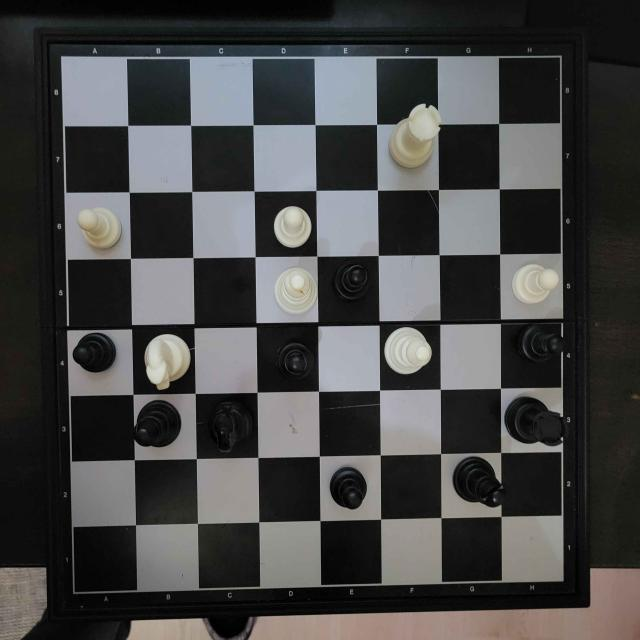black-bishop: (447, 451, 508, 515), (132, 395, 186, 460)
black-knight: (201, 398, 257, 458)
black-pawn: (516, 316, 566, 368), (331, 257, 377, 313), (68, 330, 121, 378), (328, 458, 371, 514), (272, 340, 321, 389)
black-rook: (502, 390, 568, 448)
chess-board: (40, 24, 588, 612)
white-bishop: (380, 319, 436, 381), (270, 263, 323, 321)
white-knight: (138, 326, 195, 395)
white-pawn: (74, 203, 126, 256), (508, 262, 562, 308), (268, 203, 315, 253)
white-rook: (381, 98, 443, 176)
